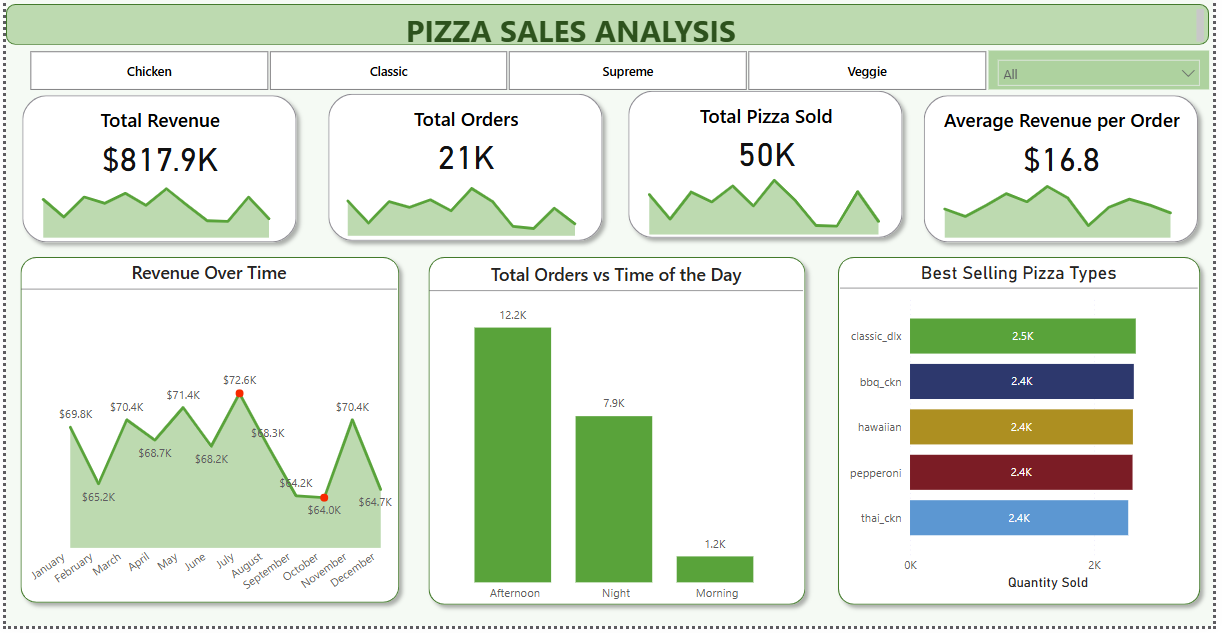

What the dashboard file says about the page in this screenshot:
{"tool":"powerbi","page":{"name":"Page 1","canvas":[1280,720],"ordinal":0},"visuals":[{"type":"cardVisual","fields":{"Data":["Order_details.Total Revenue"]},"box":[0,139.8,325,190.9],"z":0},{"type":"lineChart","fields":{"Category":["Orders1.Date.Variation.Date Hierarchy.Month"],"Y":["Order_details.Total Revenue"]},"box":[25.1,232.1,268.9,81.3],"z":1000},{"type":"cardVisual","fields":{"Data":["Order_details.Total Orders"]},"box":[323.7,138.5,325,190.9],"z":2000},{"type":"lineChart","fields":{"Category":["Orders1.Date.Variation.Date Hierarchy.Month"],"Y":["Order_details.Total Orders"]},"box":[348.2,232.1,270.8,79.3],"z":3000},{"type":"cardVisual","fields":{"Data":["Order_details.Total Pizza Sold"]},"box":[642.4,136,325,190.9],"z":4000},{"type":"lineChart","fields":{"Category":["Orders1.Date.Variation.Date Hierarchy.Month"],"Y":["Order_details.Total Pizza Sold"]},"box":[667.4,232.1,270.8,77.4],"z":5000},{"type":"cardVisual","fields":{"Data":["Order_details.Average Revenue"]},"box":[955.5,139.8,325,190.9],"z":6000},{"type":"lineChart","fields":{"Category":["Orders1.Date.Variation.Date Hierarchy.Month"],"Y":["Order_details.Average Revenue"]},"box":[980.8,232.1,268.9,81.3],"z":7000},{"type":"shape","box":[5.8,319.2,419.8,385],"z":8000},{"type":"shape","box":[439.1,319.2,417.9,386.9],"z":9000},{"type":"shape","box":[872.5,319.2,402.4,386.9],"z":10000},{"type":"lineChart","title":"Revenue Over Time","fields":{"Category":["Orders1.Date.Variation.Date Hierarchy.Month","Orders1.Date.Variation.Date Hierarchy.Day"],"Y":["Order_details.Total Revenue"]},"box":[15.5,332.7,398.5,371.4],"z":11000},{"type":"barChart","title":"Best Selling Pizza Types","fields":{"Category":["Pizzas3.pizza_type_id"],"Y":["Sum(Order_details.quantity)"],"Series":["Pizzas3.pizza_type_id"]},"box":[884.1,334.7,379.2,352.1],"z":12000},{"type":"clusteredColumnChart","title":"Total Orders vs Time of the Day","fields":{"Y":["Order_details.Total Orders"],"Category":["Orders1.Time of the Day"]},"box":[448.8,334.7,396.6,369.5],"z":13000},{"type":"slicer","fields":{"Values":["Pizza_types2.Category"]},"box":[0,103.6,1063,55],"z":14000},{"type":"shape","box":[0,60.5,1279.4,43.5],"z":15000},{"type":"textbox","box":[417.9,60,857,48.4],"z":16000},{"type":"slicer","title":"Pizza Types","fields":{"Values":["Pizzas3.pizza_type_id"]},"box":[1041.9,109.8,233.8,41.4],"z":17000}]}

Visuals, with their boxes on the page's 1280x720 design canvas (x1, y1, x2, y2). These are canvas units, not pixel positions in the 1222x633 screenshot, which may show the page scaled, cropped or inside an application window:
cardVisual - Order_details.Total Revenue: [0,140,325,331]
lineChart - Orders1.Date.Variation.Date Hierarchy.Month x Order_details.Total Revenue: [25,232,294,313]
cardVisual - Order_details.Total Orders: [324,138,649,329]
lineChart - Orders1.Date.Variation.Date Hierarchy.Month x Order_details.Total Orders: [348,232,619,311]
cardVisual - Order_details.Total Pizza Sold: [642,136,967,327]
lineChart - Orders1.Date.Variation.Date Hierarchy.Month x Order_details.Total Pizza Sold: [667,232,938,310]
cardVisual - Order_details.Average Revenue: [956,140,1280,331]
lineChart - Orders1.Date.Variation.Date Hierarchy.Month x Order_details.Average Revenue: [981,232,1250,313]
shape: [6,319,426,704]
shape: [439,319,857,706]
shape: [872,319,1275,706]
"Revenue Over Time" lineChart: [16,333,414,704]
"Best Selling Pizza Types" barChart: [884,335,1263,687]
"Total Orders vs Time of the Day" clusteredColumnChart: [449,335,845,704]
slicer - Pizza_types2.Category: [0,104,1063,159]
shape: [0,60,1279,104]
textbox: [418,60,1275,108]
"Pizza Types" slicer: [1042,110,1276,151]
